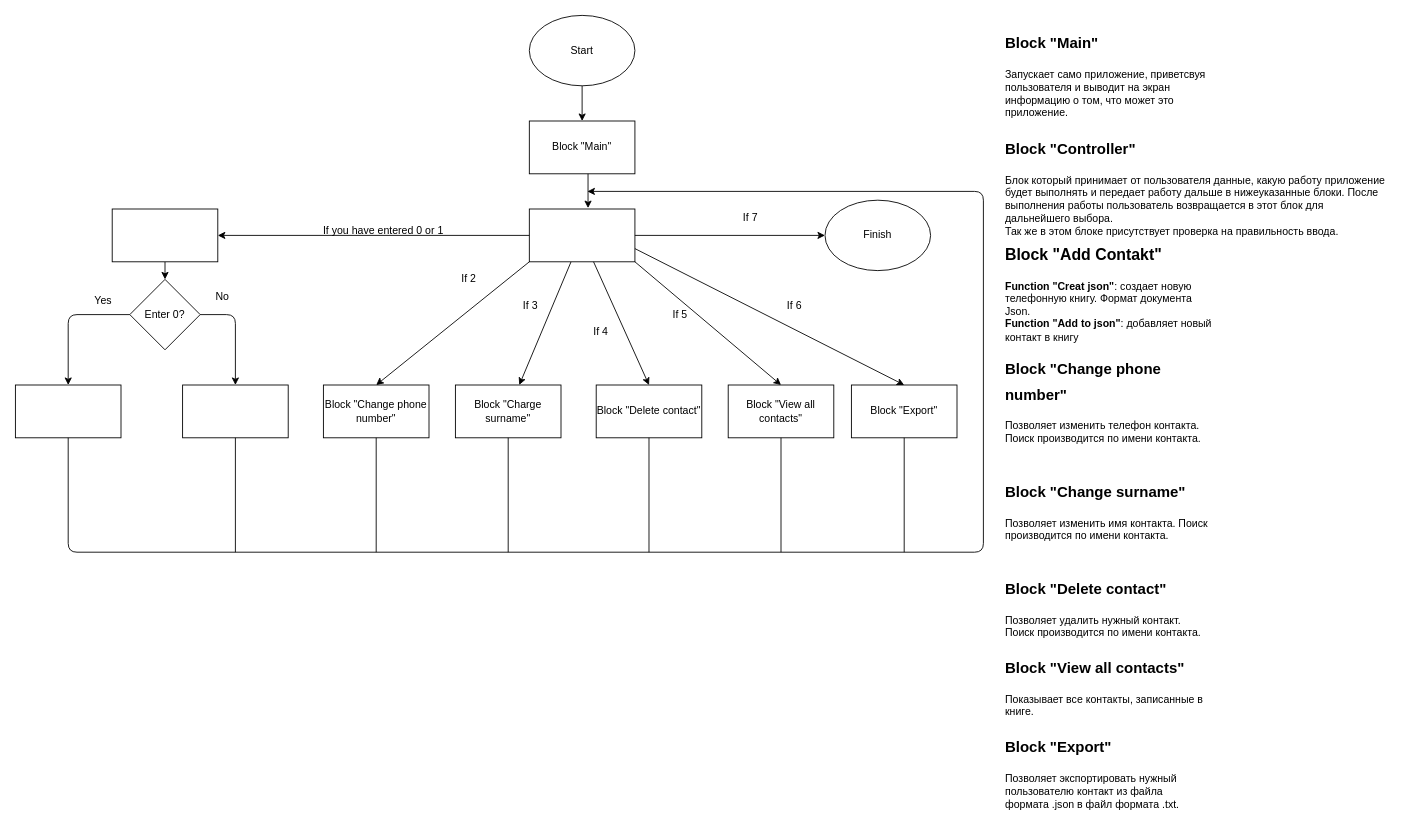
Image size: 1404x832. Some labels were removed from this diagram. Each missing label, with the centre of its shape:
Block "Add Contakt": point 164,235
Block "Controller": point 581,235
Function "Add to json": point 235,411
Function "Creat json": point 68,411
